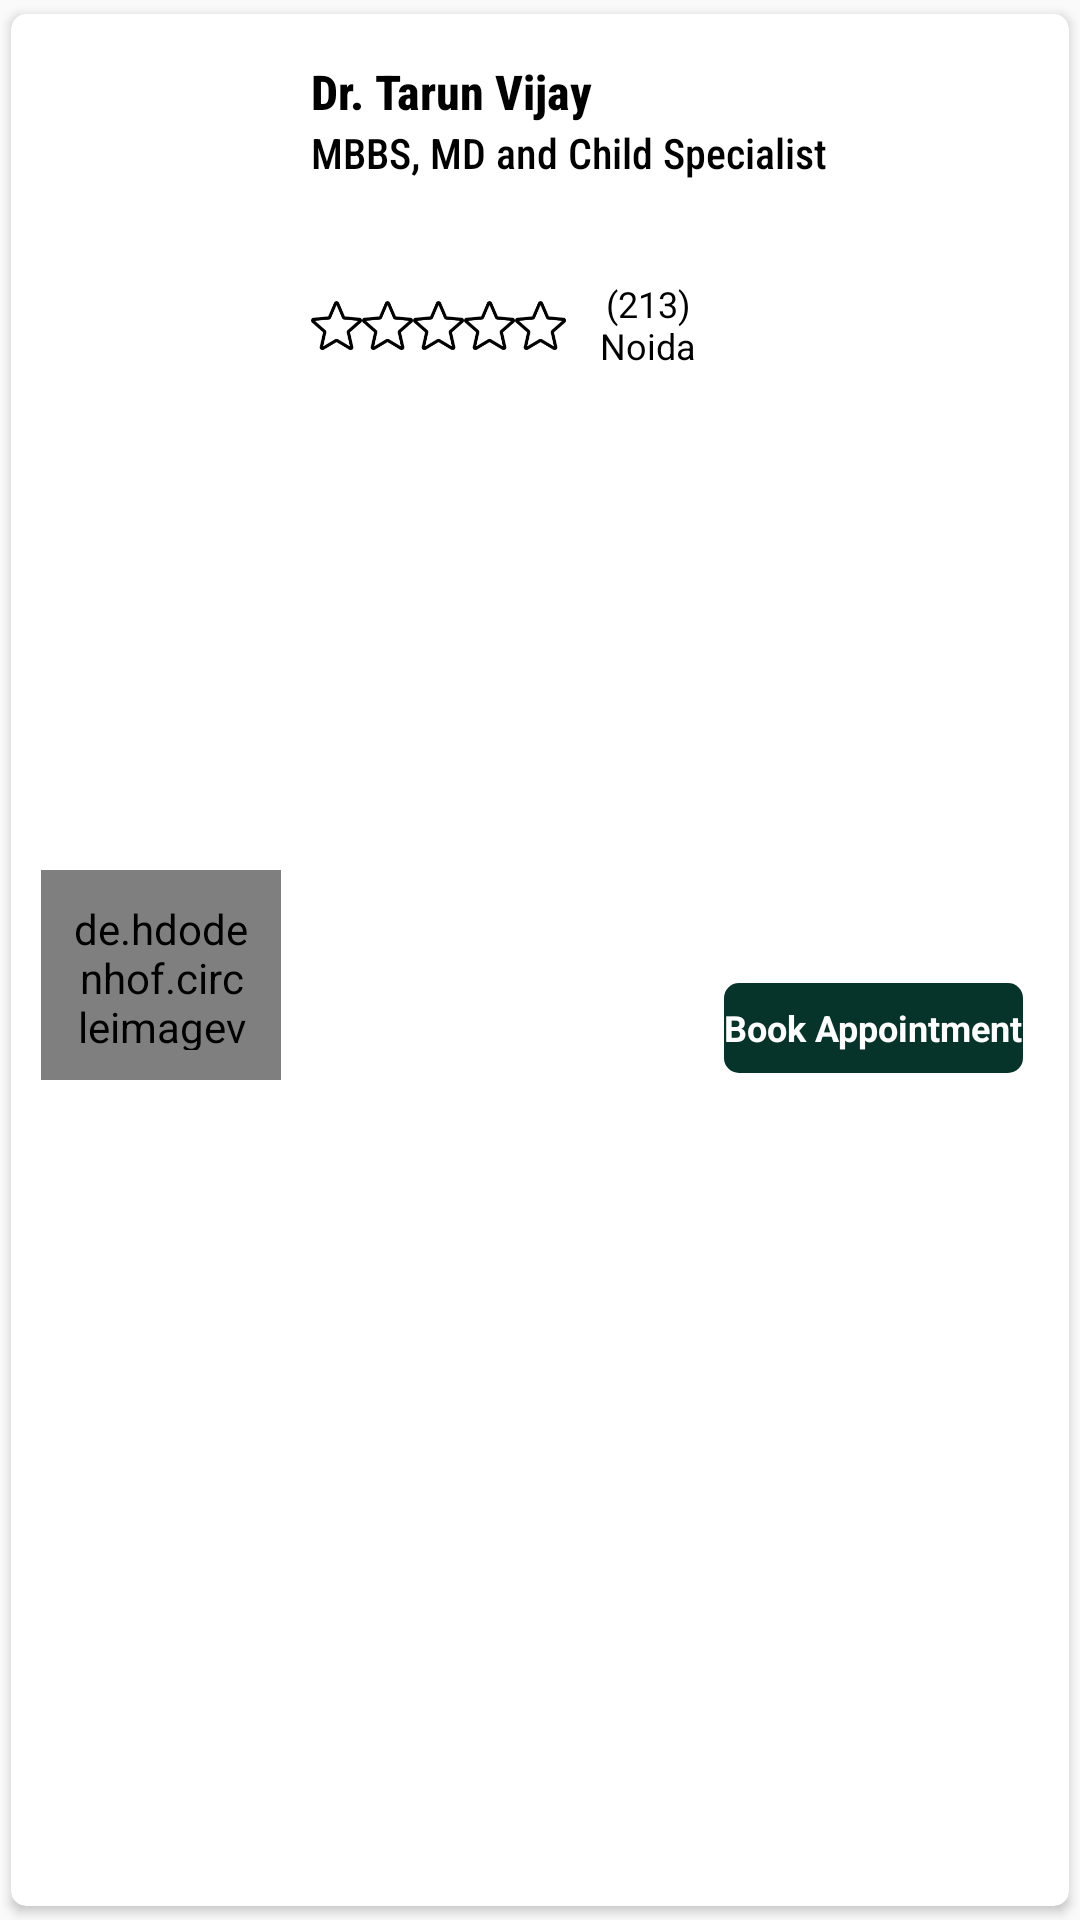

Screen size 1080px×1920px. Icon name, then its box in pixels as bbox(x1, y1, x2, y2):
star: bbox(311, 301, 362, 350), bbox(362, 301, 413, 350), bbox(413, 301, 464, 350), bbox(464, 301, 515, 350), bbox(515, 301, 566, 350)
